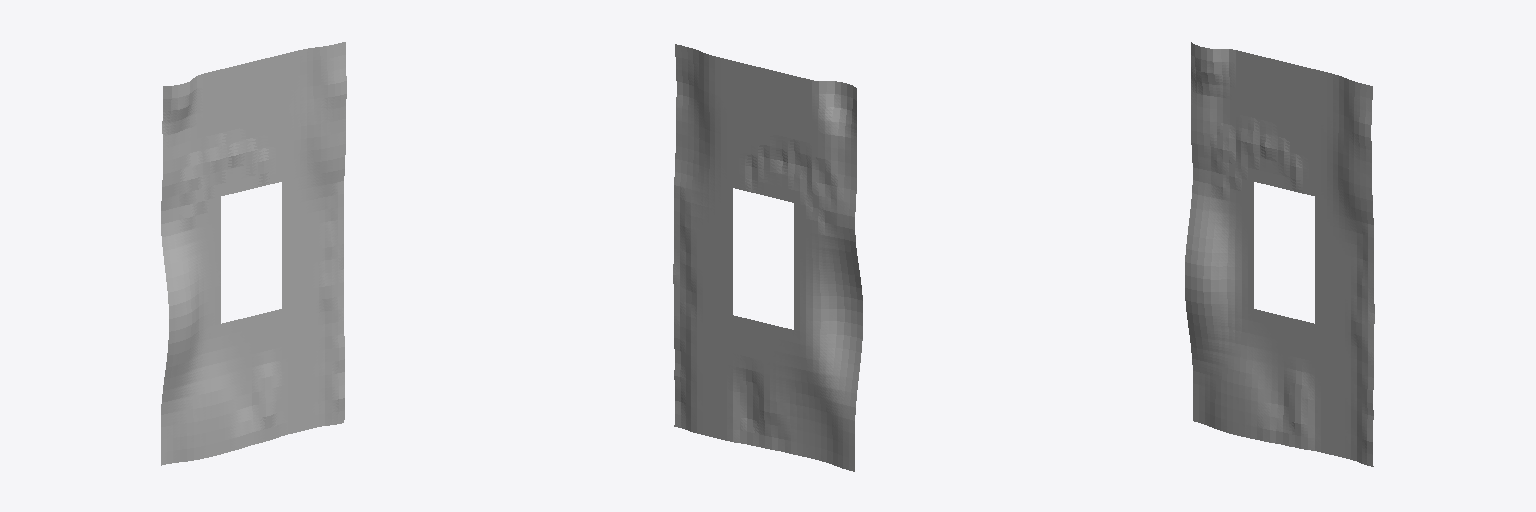
Rendered from igs_hills_1.obj.
3 renders of one model, left to right at view 1: azimuth 30°, elevation 25°; view 2: azimuth 150°, elevation 25°; view 3: azimuth 330°, elevation 25°, orthographic.
Size of the model in its own units: 150 by 300 by 12.43.